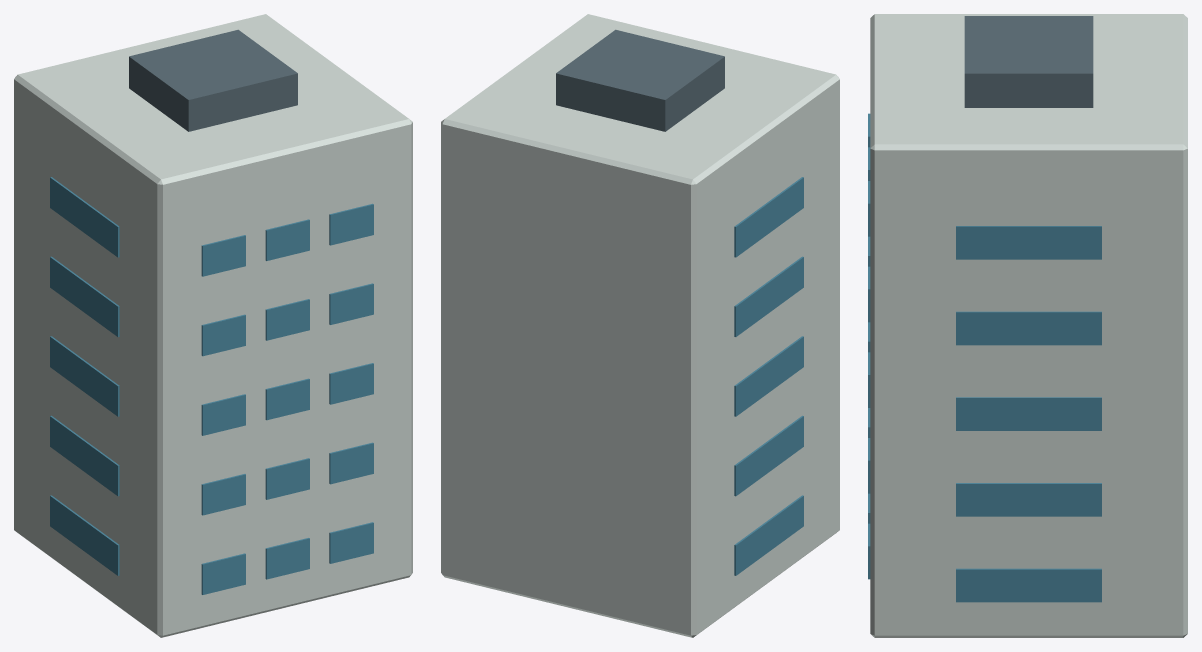
Rendered from office-high.glb.
3 views of the same model, side by side, from view 1: azimuth 30°, elevation 25°; view 2: azimuth 150°, elevation 25°; view 3: azimuth 270°, elevation 25° (orthographic). The views are drawn at different scales.
Visible parts, largest first — view 1: Office_Body, Office_Penthouse, Window_S_2_-1, Window_S_4_-1, Window_S_0_-1, Window_S_1_-1, Window_S_3_-1, Window_F_0_2, Window_F_0_0, Window_F_1_2, Window_F_2_1, Window_F_3_0 (+10 smaller); view 2: Office_Body, Office_Penthouse, Window_S_2_-1, Window_S_4_-1, Window_S_0_-1, Window_S_1_-1, Window_S_3_-1; view 3: Office_Body, Office_Penthouse, Window_S_0_1, Window_S_3_1, Window_S_1_1, Window_S_2_1, Window_S_4_1.
Part boxes in pixels (x1,y1,x2,y2): Office_Body: (14, 14, 412, 637); Office_Penthouse: (129, 29, 297, 131); Window_S_2_-1: (50, 336, 119, 416); Window_S_4_-1: (50, 177, 119, 257); Window_S_0_-1: (50, 495, 119, 575); Window_S_1_-1: (50, 415, 119, 496); Window_S_3_-1: (50, 256, 119, 336); Window_F_0_2: (329, 522, 373, 563); Window_F_0_0: (201, 553, 245, 594); Window_F_1_2: (329, 442, 373, 484); Window_F_2_1: (265, 378, 309, 420); Window_F_3_0: (201, 314, 245, 356); Office_Body: (441, 14, 839, 637); Office_Penthouse: (556, 29, 724, 131); Window_S_2_-1: (734, 336, 803, 416); Window_S_4_-1: (734, 177, 803, 257); Window_S_0_-1: (734, 495, 803, 575); Window_S_1_-1: (734, 415, 803, 496); Window_S_3_-1: (734, 256, 803, 336); Office_Body: (870, 14, 1187, 637); Office_Penthouse: (964, 16, 1093, 107); Window_S_0_1: (956, 568, 1101, 602); Window_S_3_1: (956, 311, 1101, 345); Window_S_1_1: (956, 483, 1101, 516); Window_S_2_1: (956, 397, 1101, 430); Window_S_4_1: (956, 226, 1101, 259).
Bounding box in the file's own units: 4.26 × 7.7 × 4.23.
